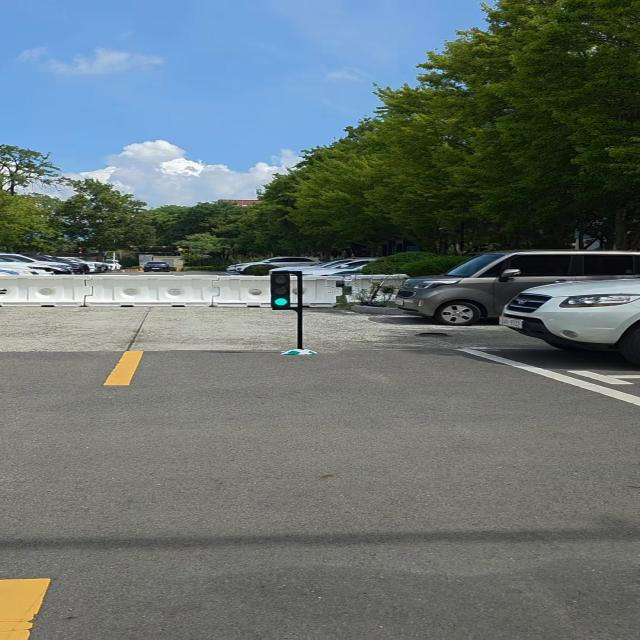green: (267, 272, 296, 311)
